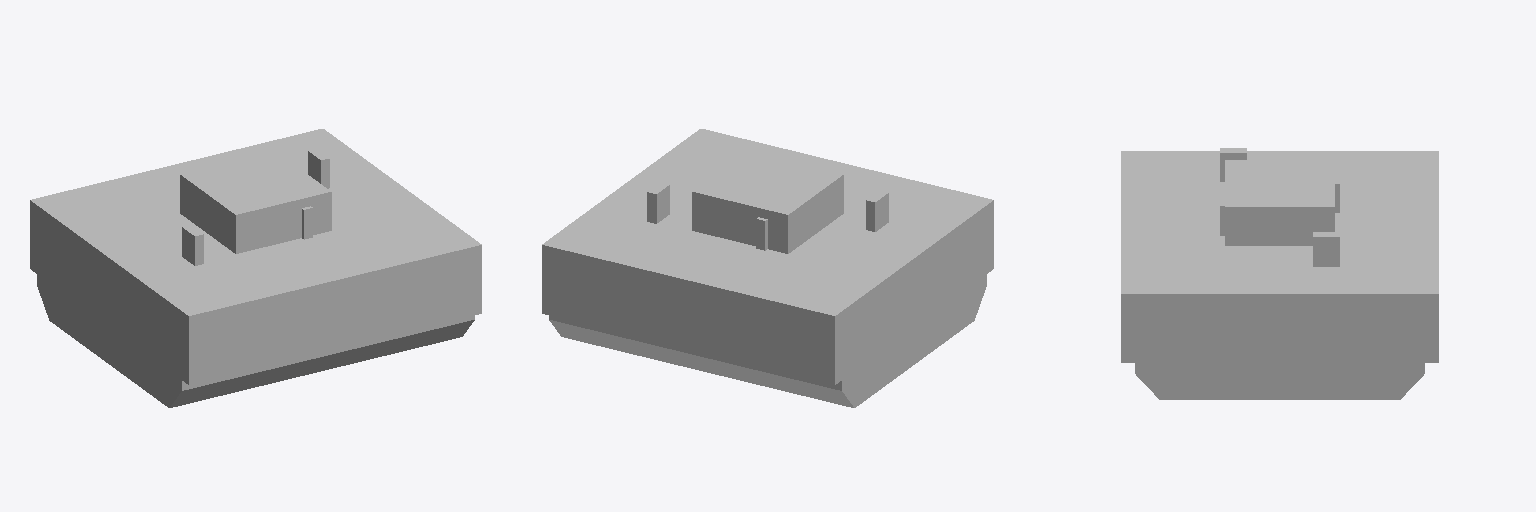
Rendered from df5_fuel_tank.obj.
The picture shows the model from 3 angles: view 1: azimuth 30°, elevation 25°; view 2: azimuth 150°, elevation 25°; view 3: azimuth 270°, elevation 25°; orthographic projection.
Visible parts, largest first — view 1: 油箱_selection; view 2: 油箱_selection; view 3: 油箱_selection.
Boxes of the visible parts, x1=… form: 油箱_selection: x1=30, y1=129, x2=481, y2=407; 油箱_selection: x1=542, y1=129, x2=993, y2=407; 油箱_selection: x1=1121, y1=148, x2=1438, y2=399.
Bounding box in the file's own units: 3.06 × 1.45 × 2.88.